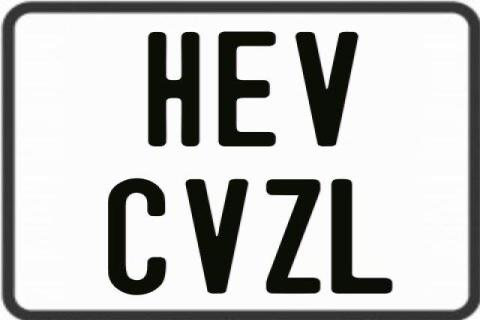C: (106, 177, 164, 295)
E: (218, 31, 280, 147)
H: (145, 30, 200, 146)
L: (330, 178, 394, 296)
V: (185, 178, 252, 296), (293, 30, 359, 148)
Z: (265, 180, 321, 294)
